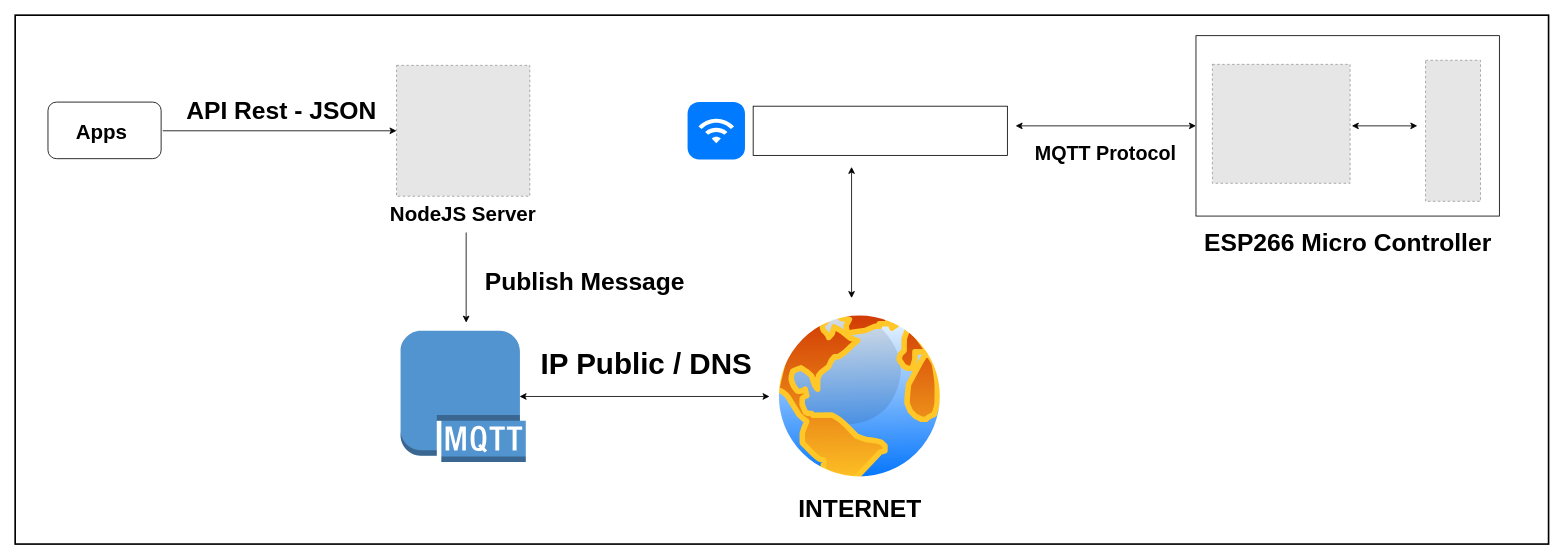
This 1563x558 diagram has some shape labels left out. Grey dashed boxes stand in for pictures. The shapes that lost their labels are listed below. From the top down, each one's centre as x and y in pixels, then its label:
At [879,130]: "Wifi Conectivity".
At [463,396]: "MQTT Broker Server".
